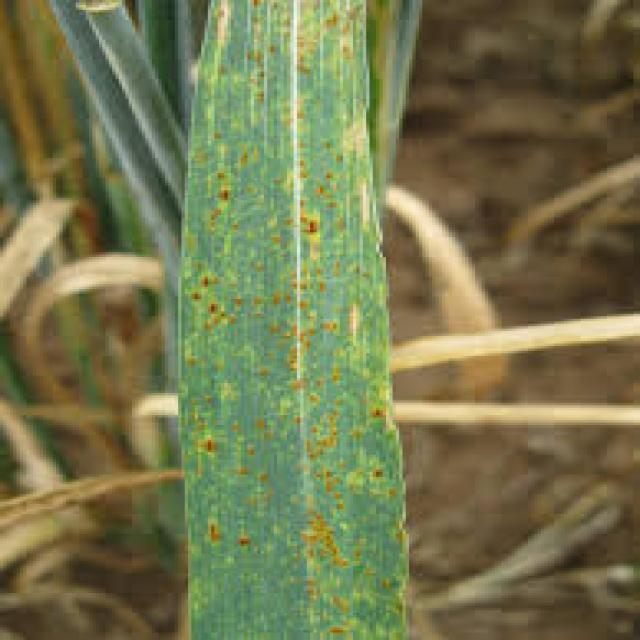leaf_rust: (181, 0, 402, 638)
